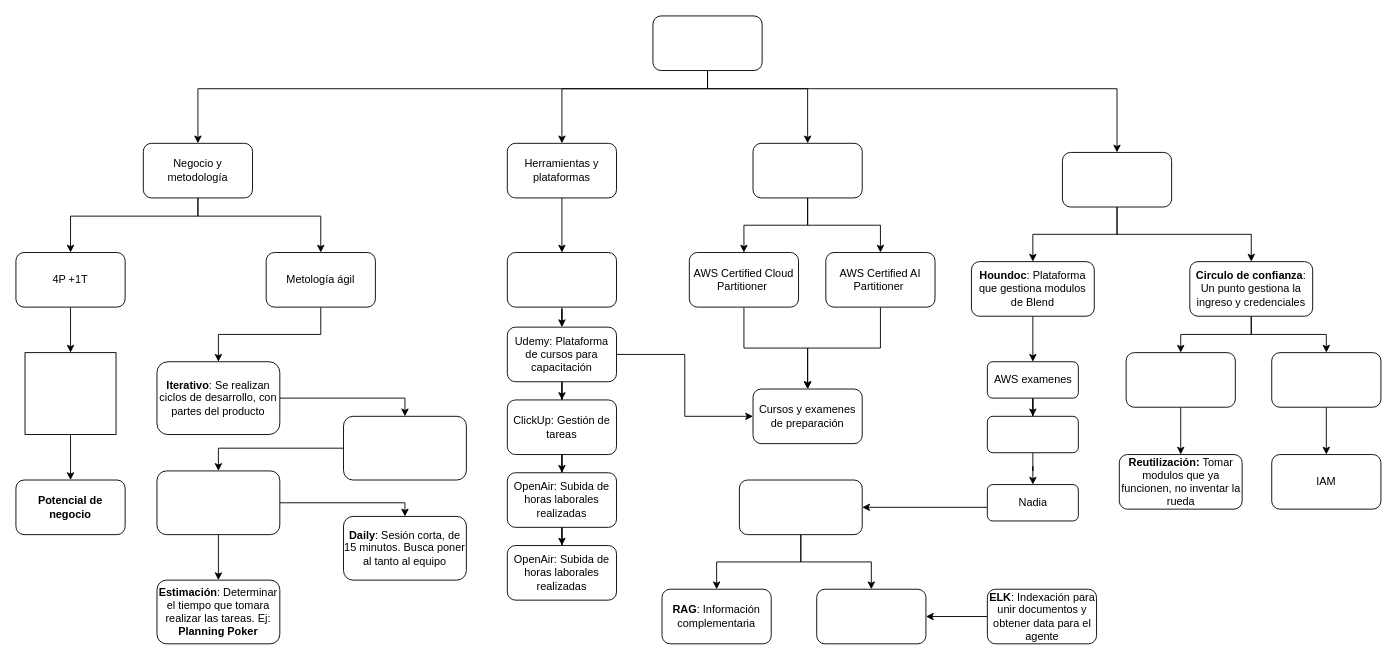
This 1397x660 diagram has some shape labels left out. The box of each missing label's shape, as (x1, y1, x2, y2) in pixels:
Assigment 1: (652, 15, 762, 71)
Bedrock : Servicio que provee un modelo fundacional de LLM: (738, 479, 862, 535)
Blend Colombia Skills: (986, 415, 1078, 453)
Certificaciones de AWS: (752, 142, 862, 198)
Feedback : Se va viendo el proyecto con el cliente: (343, 415, 466, 480)
Fuente de conocimiento: (816, 588, 926, 644)
Houndoc y referencia de arquitectura: (1062, 152, 1172, 207)
IdP : Identity Provider: (1271, 352, 1381, 407)
Personas Proceso Producto Proyecto Herramienta: (24, 352, 116, 435)
Product Backlog : Establecer las tareas a realizar en la semana: (156, 470, 280, 535)
SP : Service Provider: (1125, 352, 1235, 407)
Teams: Comunicación y reuniones: (506, 252, 617, 307)
